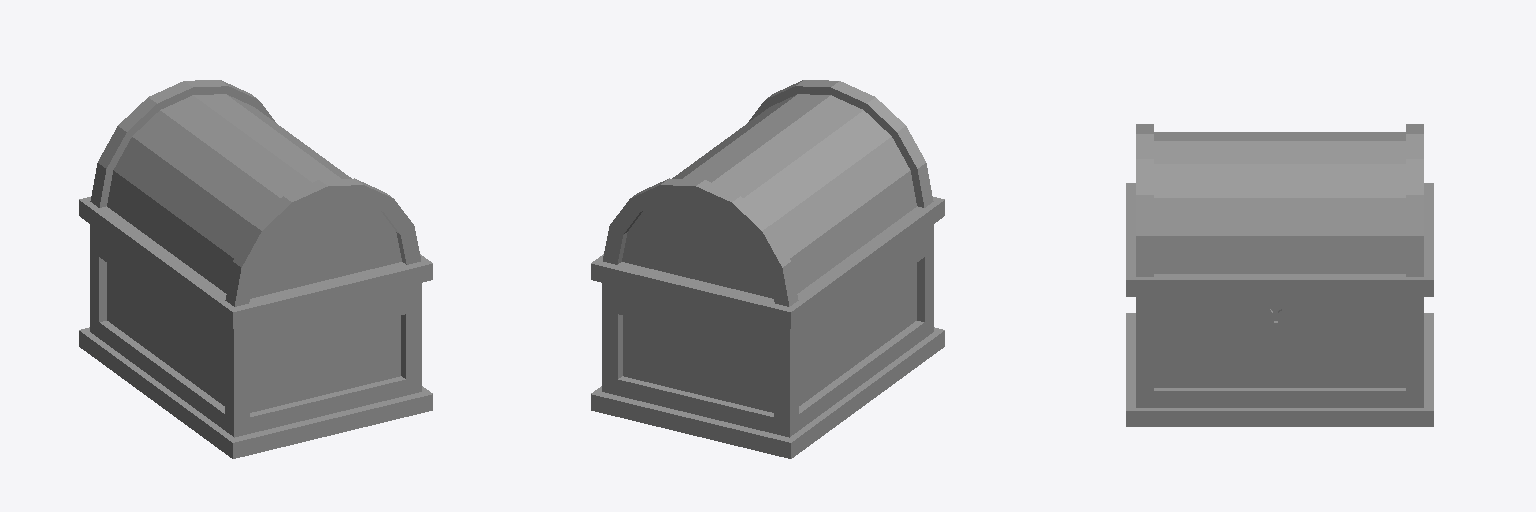
The model's file is chest-1.obj.
3 renders of one model, left to right at view 1: azimuth 30°, elevation 25°; view 2: azimuth 150°, elevation 25°; view 3: azimuth 270°, elevation 25°, orthographic.
Parts seen in each view (by area): view 1: box_Cube; view 2: box_Cube; view 3: box_Cube.
Part boxes in pixels (bbox=[...]): box_Cube: bbox=[79, 80, 432, 458]; box_Cube: bbox=[591, 80, 944, 458]; box_Cube: bbox=[1126, 124, 1433, 426].
Size of the model in its own units: 0.6431 by 0.75 by 0.8574.